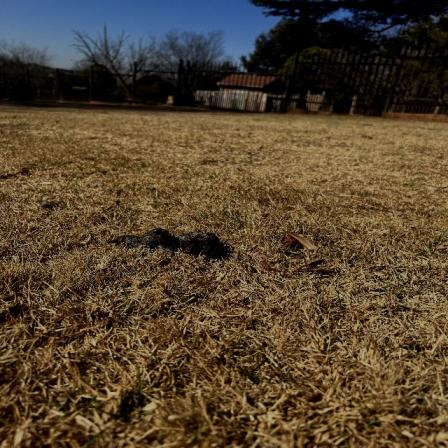dog-poop: (127, 220, 228, 262)
